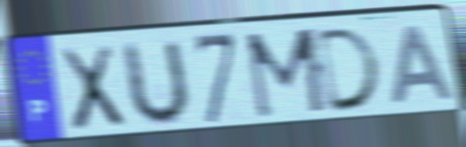7: (193, 31, 243, 127)
A: (388, 22, 457, 108)
D: (314, 24, 386, 116)
M: (242, 25, 332, 123)
U: (121, 36, 192, 130)
X: (56, 42, 128, 135)
